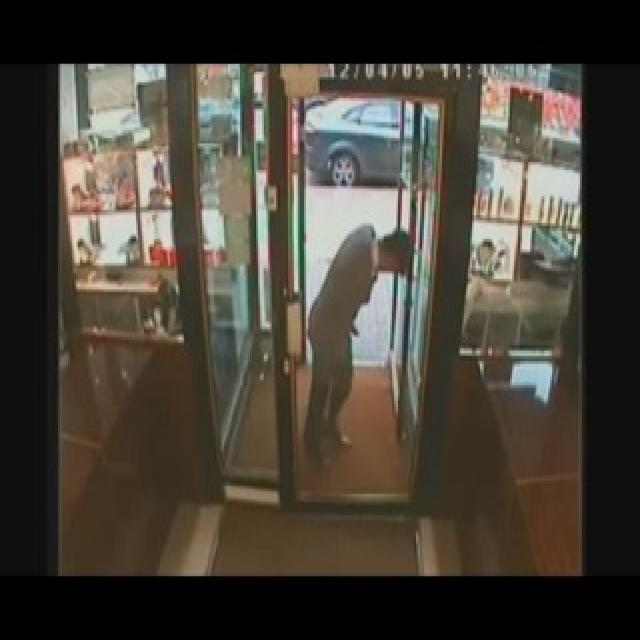thief: (307, 220, 419, 450)
